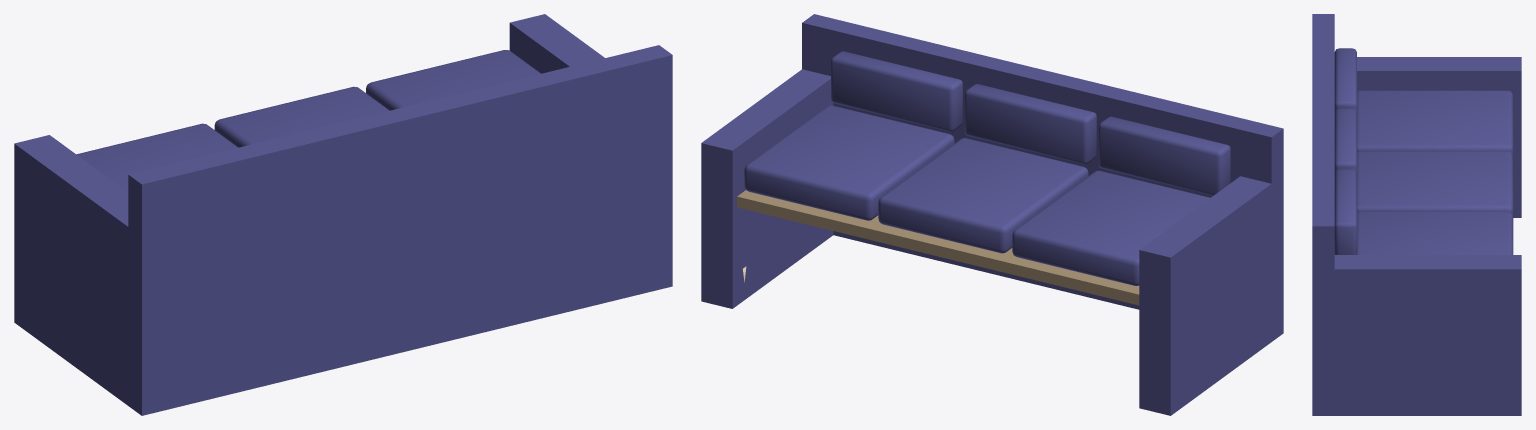
The model's file is sofa.glb.
The picture shows the model from 3 angles, left to right: view 1: azimuth 30°, elevation 25°; view 2: azimuth 150°, elevation 25°; view 3: azimuth 270°, elevation 25°; orthographic projection. The views are drawn at different scales.
Visible parts, largest first — view 1: Sofa; view 2: Sofa; view 3: Sofa.
Part boxes in pixels (bbox=[...]): Sofa: bbox=[14, 14, 672, 415]; Sofa: bbox=[701, 14, 1283, 415]; Sofa: bbox=[1312, 14, 1521, 415].
Size of the model in its own units: 1.8 by 0.75 by 0.75.
